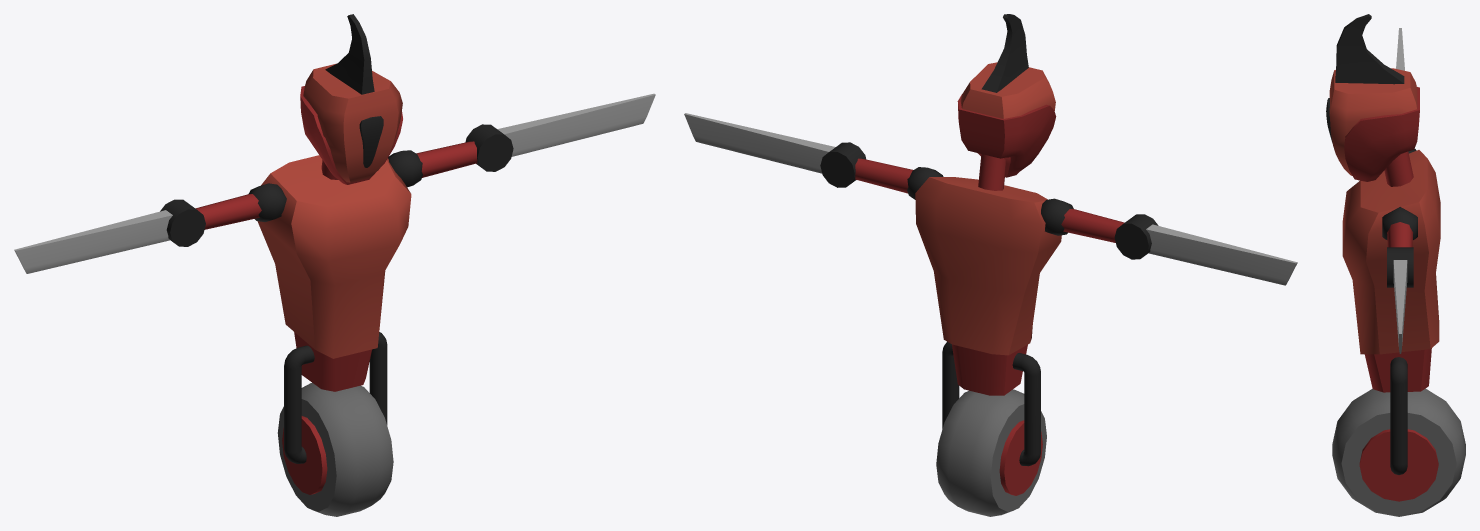
Rendered from Planet3_Red.fbx.
3 views of the same model, side by side, from view 1: azimuth 30°, elevation 25°; view 2: azimuth 150°, elevation 25°; view 3: azimuth 270°, elevation 25° (orthographic). The views are drawn at different scales.
Visible parts, largest first — view 1: Planet3_Red; view 2: Planet3_Red; view 3: Planet3_Red.
Part boxes in pixels (x1=…): Planet3_Red: x1=14, y1=14, x2=655, y2=516; Planet3_Red: x1=684, y1=14, x2=1297, y2=516; Planet3_Red: x1=1326, y1=14, x2=1465, y2=516.
Bounding box in the file's own units: 5.74 × 4.33 × 1.11.
